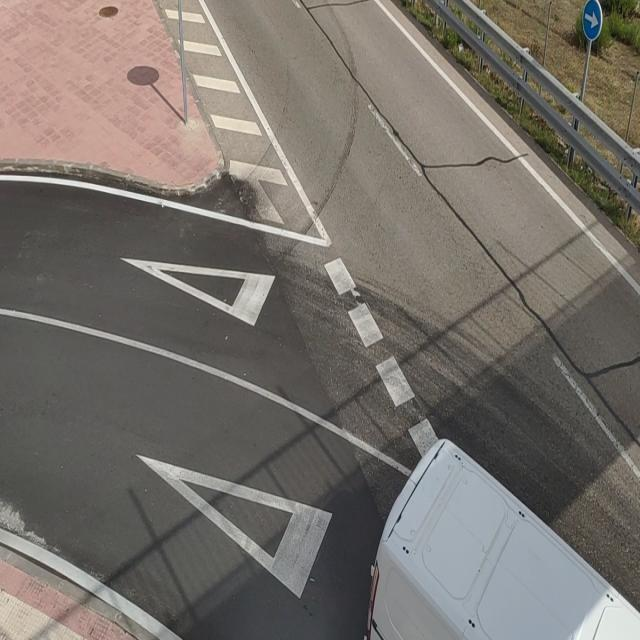Van: (360, 432, 640, 640)
